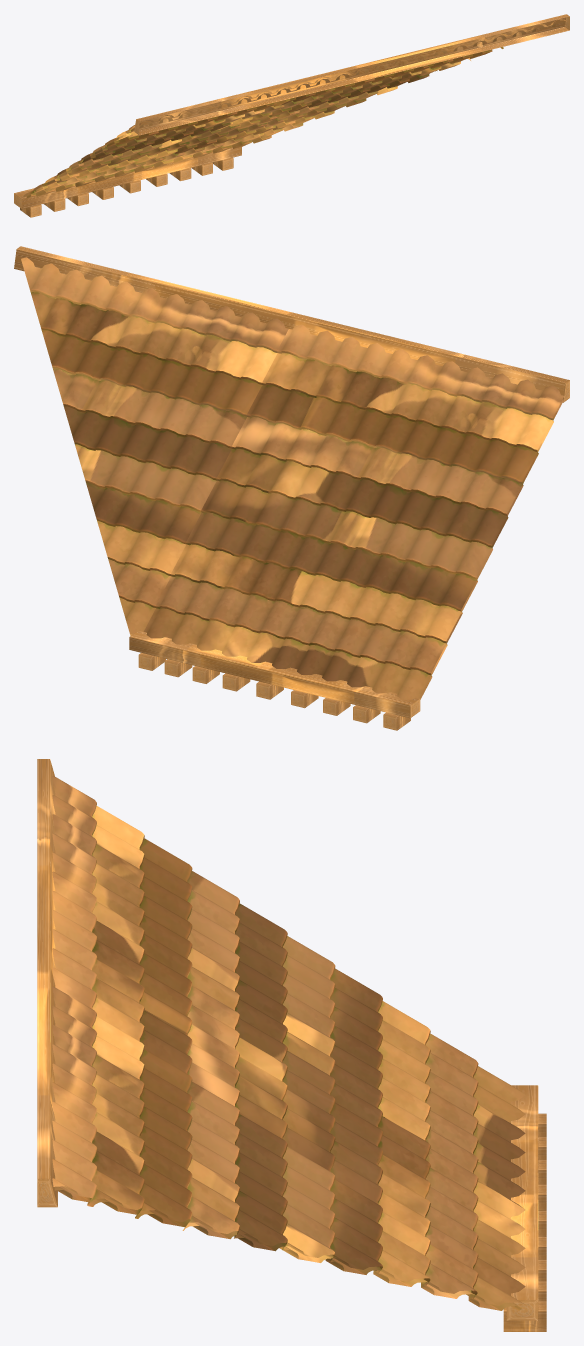
The model's file is SM_Roof_04.fbx.
3 views of the same model, one above another, from view 1: azimuth 30°, elevation 25°; view 2: azimuth 150°, elevation 25°; view 3: azimuth 270°, elevation 25° (orthographic). The views are drawn at different scales.
Visible parts, largest first — view 1: SM_Roof_04_LOD0; view 2: SM_Roof_04_LOD0; view 3: SM_Roof_04_LOD0.
Boxes of the visible parts, bbox=[...] form: SM_Roof_04_LOD0: bbox=[14, 14, 569, 217]; SM_Roof_04_LOD0: bbox=[14, 246, 569, 730]; SM_Roof_04_LOD0: bbox=[37, 759, 546, 1331].
Size of the model in its own units: 798 by 409 by 325.
